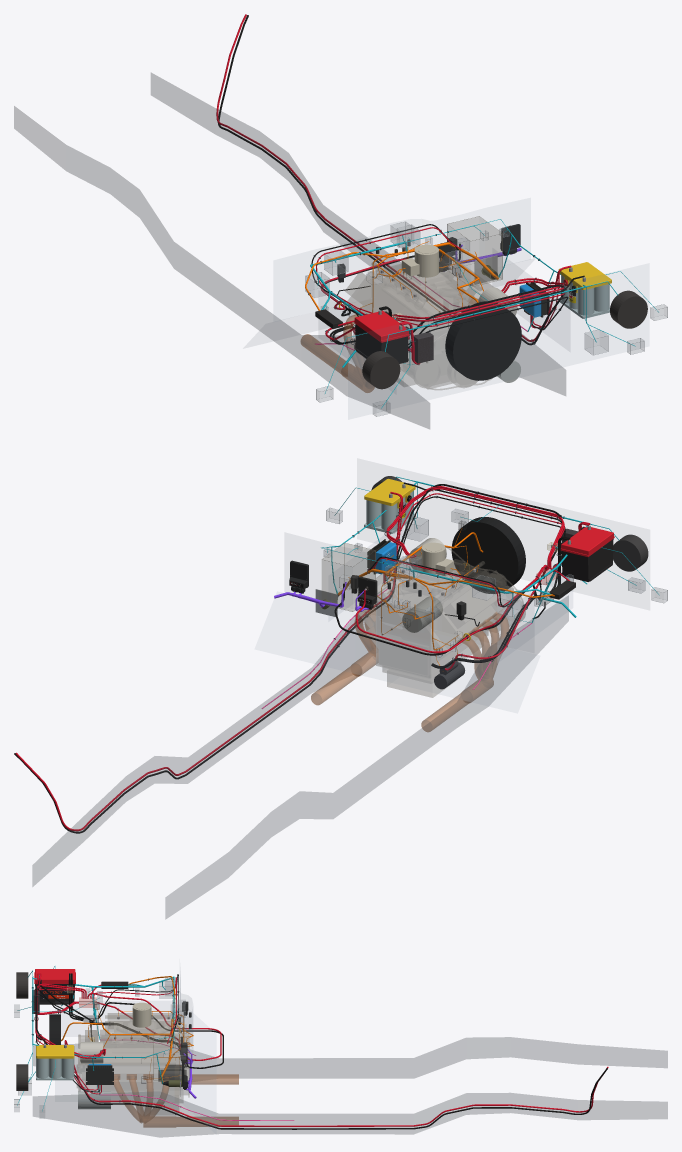
File: k5-harness-v4-bay.glb
The picture shows the model from 3 angles, top to bottom: view 1: azimuth 30°, elevation 25°; view 2: azimuth 150°, elevation 25°; view 3: azimuth 270°, elevation 25°; orthographic projection. The views are drawn at different scales.
Parts seen in each view (by area): view 1: CTX-frame-rail-web-passenger, CTX-frame-rail-web-driver, FAN, IBOOSTER_fill, E3_Head_R, DC-AMP_GND, E3_ValveCover_R, ACC-BATT case (six SpiralCell cans), DC-32, HEADLIGHT-R, HEADLIGHT-L, ODYSSEY case (+7 smaller); view 2: CTX-frame-rail-web-passenger, CTX-frame-rail-web-driver, FAN, E3_RearCover, IBOOSTER_fill, E3_Head_R, DC-AMP_GND, E3_Block_Crankcase, ODYSSEY case, DC-32, ACC-BATT case (six SpiralCell cans), E3_ValveCover_R (+9 smaller); view 3: CTX-frame-rail-web-driver, CTX-frame-rail-web-passenger, IBOOSTER_fill, E3_Head_L, DC-AMP_GND, E3_ValveCover_L, DC-32, ACC-BATT case (six SpiralCell cans), E3_Block_Crankcase, ODYSSEY lid, DCDC heatsink, fins and base plate, ACC-BATT cover and terminal towers (+18 smaller).
Boxes of the visible parts, bbox=[...] form: CTX-frame-rail-web-passenger: bbox=[14, 106, 429, 428]; CTX-frame-rail-web-driver: bbox=[151, 73, 565, 395]; FAN: bbox=[445, 301, 521, 380]; IBOOSTER_fill: bbox=[447, 216, 502, 286]; E3_Head_R: bbox=[347, 271, 429, 336]; DC-AMP_GND: bbox=[217, 15, 563, 345]; E3_ValveCover_R: bbox=[345, 271, 414, 325]; ACC-BATT case (six SpiralCell cans): bbox=[560, 274, 609, 318]; DC-32: bbox=[216, 14, 571, 341]; HEADLIGHT-R: bbox=[362, 351, 400, 389]; HEADLIGHT-L: bbox=[610, 290, 647, 328]; ODYSSEY case: bbox=[355, 311, 409, 363]; CTX-frame-rail-web-passenger: bbox=[165, 596, 568, 918]; CTX-frame-rail-web-driver: bbox=[32, 616, 367, 886]; FAN: bbox=[451, 517, 525, 593]; E3_RearCover: bbox=[376, 600, 430, 678]; IBOOSTER_fill: bbox=[322, 543, 375, 611]; E3_Head_R: bbox=[431, 570, 498, 648]; DC-AMP_GND: bbox=[14, 484, 563, 833]; E3_Block_Crankcase: bbox=[379, 627, 485, 675]; ODYSSEY case: bbox=[560, 526, 613, 581]; DC-32: bbox=[15, 492, 402, 831]; ACC-BATT case (six SpiralCell cans): bbox=[364, 491, 415, 533]; E3_ValveCover_R: bbox=[443, 570, 510, 628]; CTX-frame-rail-web-driver: bbox=[33, 1091, 667, 1137]; CTX-frame-rail-web-passenger: bbox=[33, 1037, 667, 1078]; IBOOSTER_fill: bbox=[154, 1033, 189, 1079]; E3_Head_L: bbox=[101, 1043, 178, 1079]; DC-AMP_GND: bbox=[35, 984, 607, 1129]; E3_ValveCover_L: bbox=[104, 1044, 175, 1065]; DC-32: bbox=[64, 1040, 608, 1126]; ACC-BATT case (six SpiralCell cans): bbox=[36, 1058, 74, 1080]; E3_Block_Crankcase: bbox=[100, 1080, 189, 1094]; ODYSSEY lid: bbox=[34, 969, 75, 983]; DCDC heatsink, fins and base plate: bbox=[86, 1065, 113, 1084]; ACC-BATT cover and terminal towers: bbox=[36, 1045, 74, 1058].
Bounding box in the file's own units: 2.05 × 0.8743 × 4.38.
